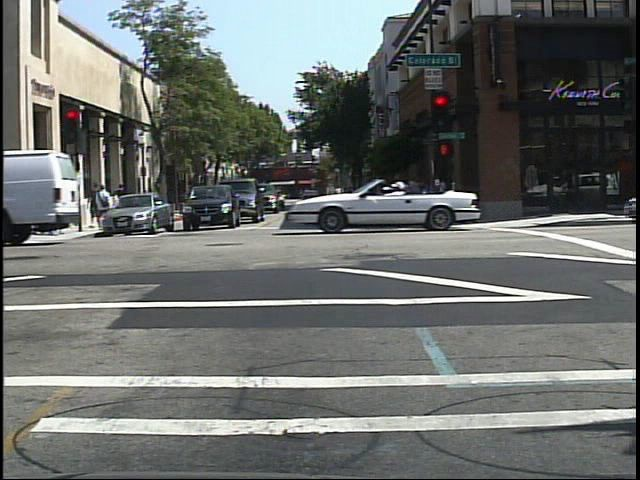person: (96, 179, 114, 226)
